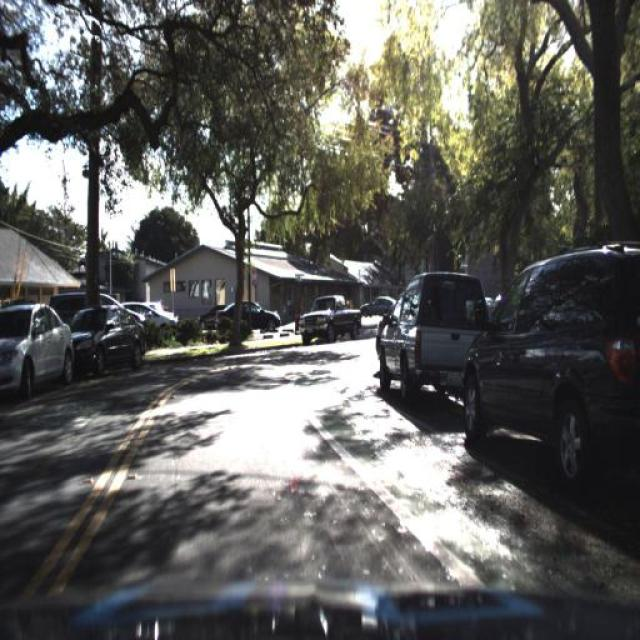car: (460, 237, 638, 492), (378, 270, 492, 401), (1, 299, 76, 401), (68, 306, 148, 366), (298, 292, 361, 346), (218, 298, 282, 340), (121, 303, 179, 347), (369, 287, 397, 374), (360, 279, 406, 329), (144, 303, 180, 352), (192, 293, 229, 339), (356, 294, 396, 321), (190, 304, 225, 332)
